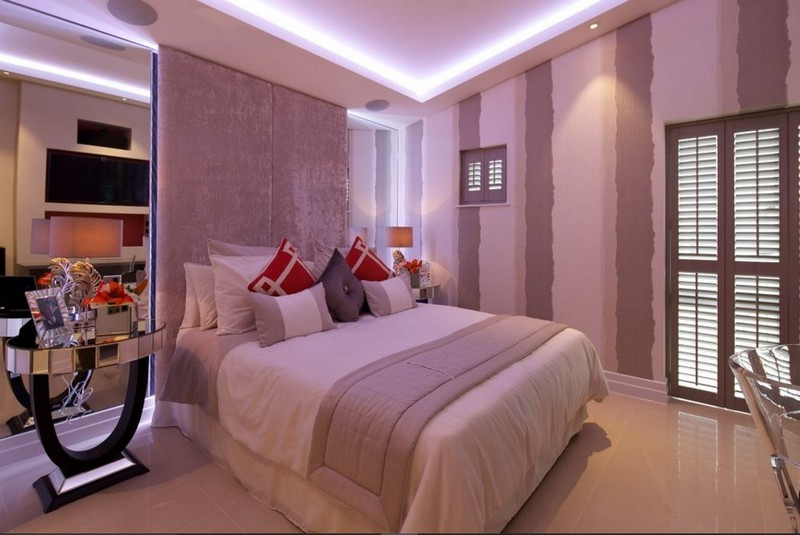bed: (164, 239, 606, 524)
lamp: (383, 222, 419, 278)
stool: (6, 325, 166, 504)
table: (724, 334, 800, 527)
